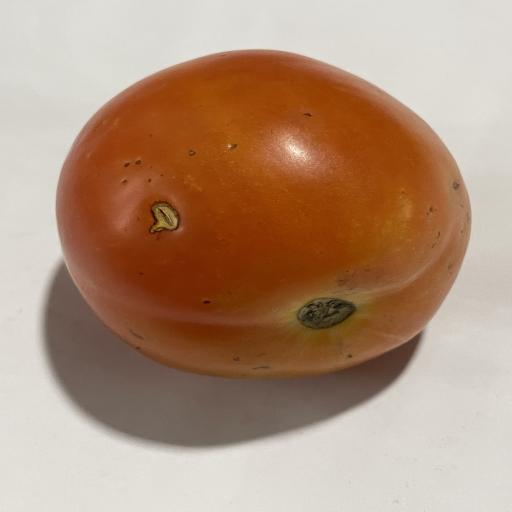ripe: (57, 50, 471, 378)
